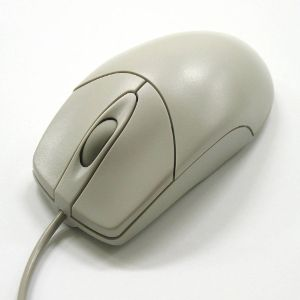mouse: (22, 23, 274, 272)
